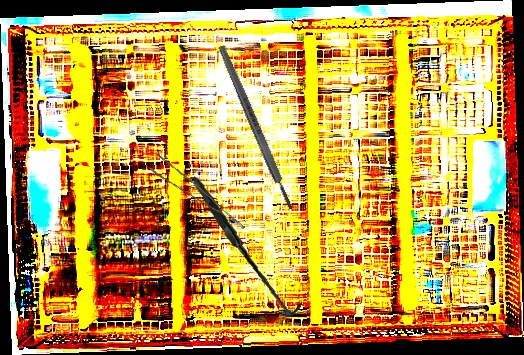Hook Surgical: (183, 175, 312, 315)
Scalpel Handle: (216, 44, 296, 211)
Tissue Forceps: (145, 148, 246, 245)
